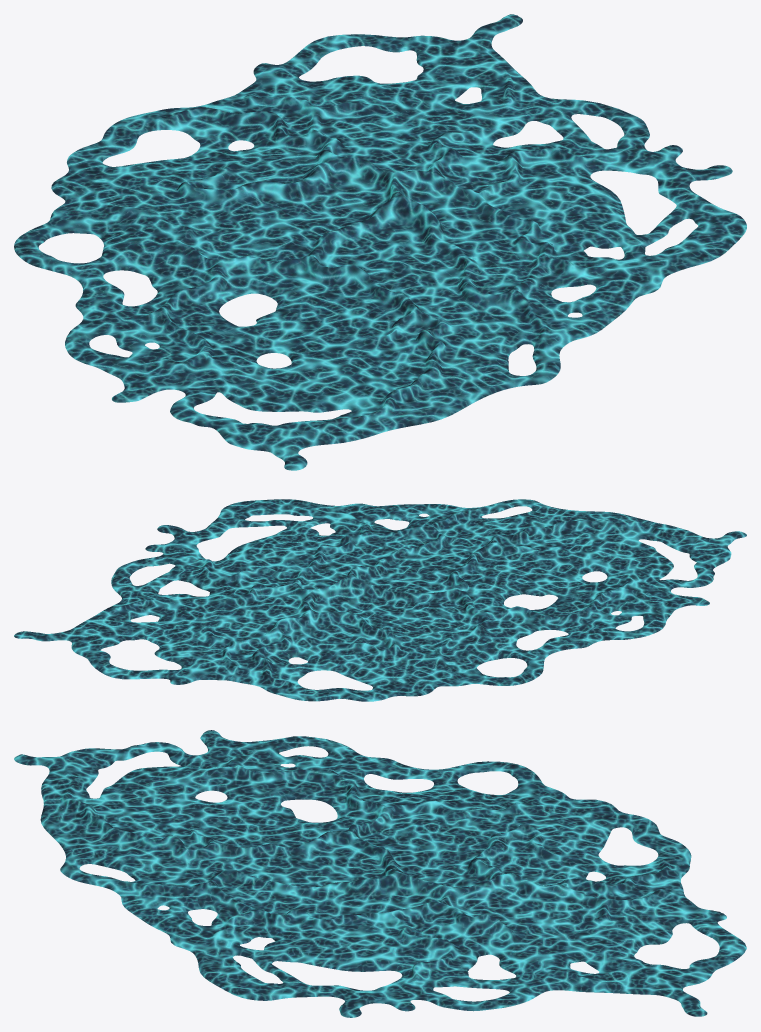
The model's file is caos_stl_chaosgrowth_01c_soma_v36.glb.
3 views of the same model, one above another, from view 1: azimuth 30°, elevation 25°; view 2: azimuth 150°, elevation 25°; view 3: azimuth 270°, elevation 25° (orthographic). The views are drawn at different scales.
Visible parts, largest first — view 1: caos_stl_chaosgrowth_01c; view 2: caos_stl_chaosgrowth_01c; view 3: caos_stl_chaosgrowth_01c.
Boxes of the visible parts, bbox=[...] form: caos_stl_chaosgrowth_01c: bbox=[14, 14, 746, 470]; caos_stl_chaosgrowth_01c: bbox=[14, 499, 746, 701]; caos_stl_chaosgrowth_01c: bbox=[14, 730, 746, 1017].
Bounding box in the file's own units: 28.5 × 1.04 × 30.74.
1 material, 1 textured.
